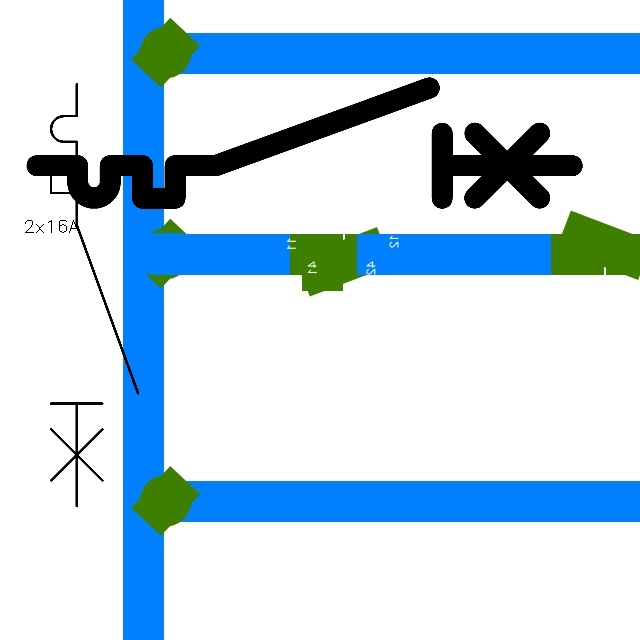interruptor_termomagnetico: (23, 74, 586, 212), (40, 73, 148, 517)
